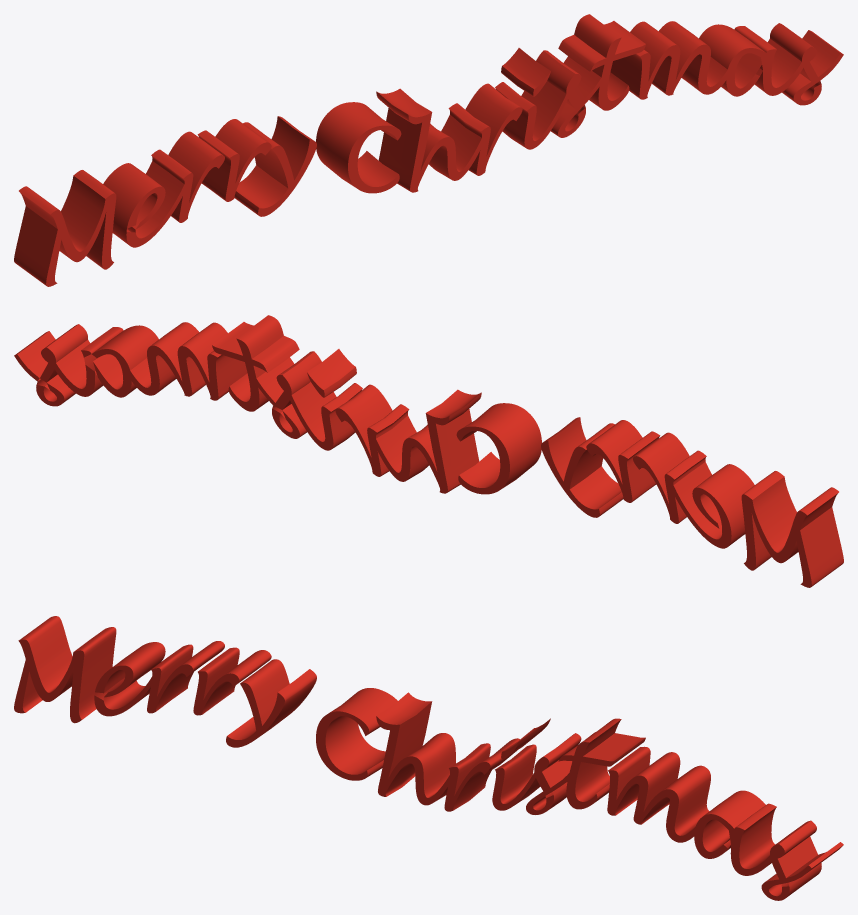
File: merryChristmas.dae
The picture shows the model from 3 angles, top to bottom: view 1: azimuth 30°, elevation 25°; view 2: azimuth 150°, elevation 25°; view 3: azimuth 330°, elevation 25°; orthographic projection.
Parts seen in each view (by area): view 1: MerryChristmas; view 2: MerryChristmas; view 3: MerryChristmas.
Part boxes in pixels (x1,y1,x2,y2): MerryChristmas: (14,14,843,286); MerryChristmas: (14,315,843,587); MerryChristmas: (14,616,843,900).
Bounding box in the file's own units: 28.71 × 3.87 × 2.
